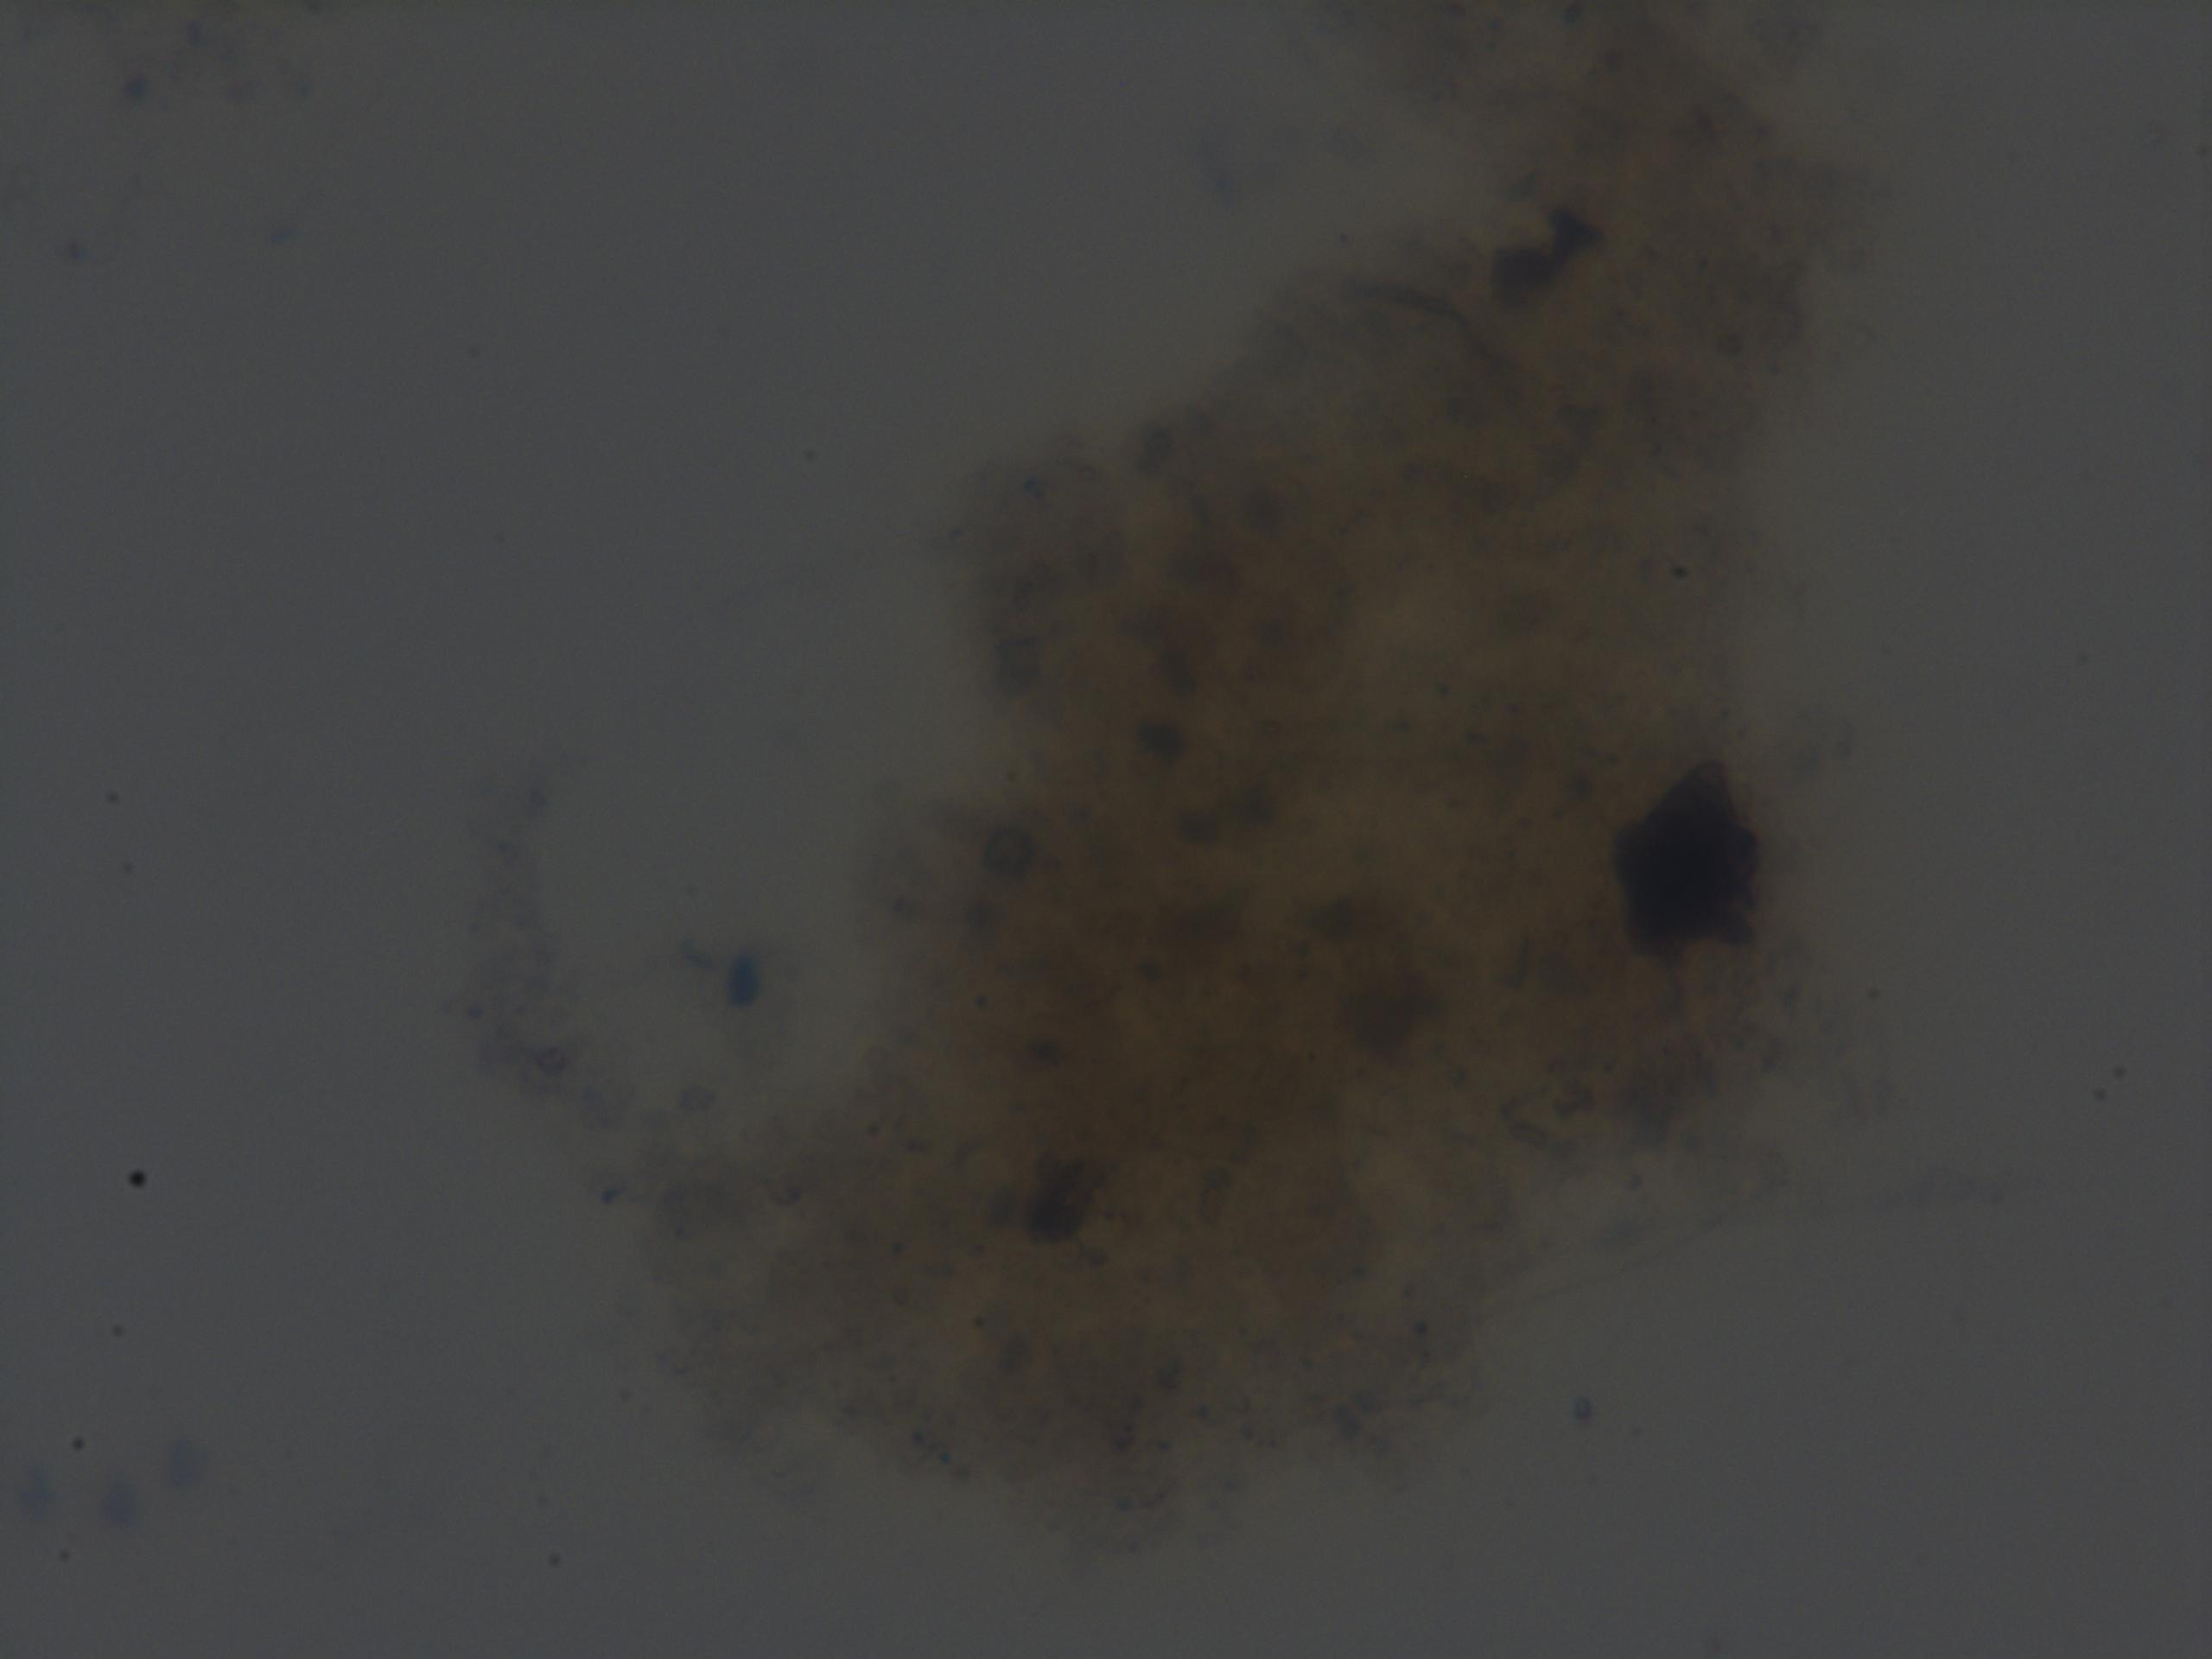spherical_floc: (636, 0, 1855, 1554)
